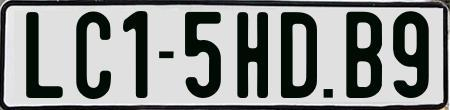1: (120, 9, 151, 97)
5: (182, 11, 222, 98)
9: (390, 9, 427, 99)
B: (344, 9, 384, 98)
C: (75, 9, 110, 100)
D: (281, 9, 321, 96)
H: (236, 9, 273, 99)
L: (25, 12, 64, 98)
